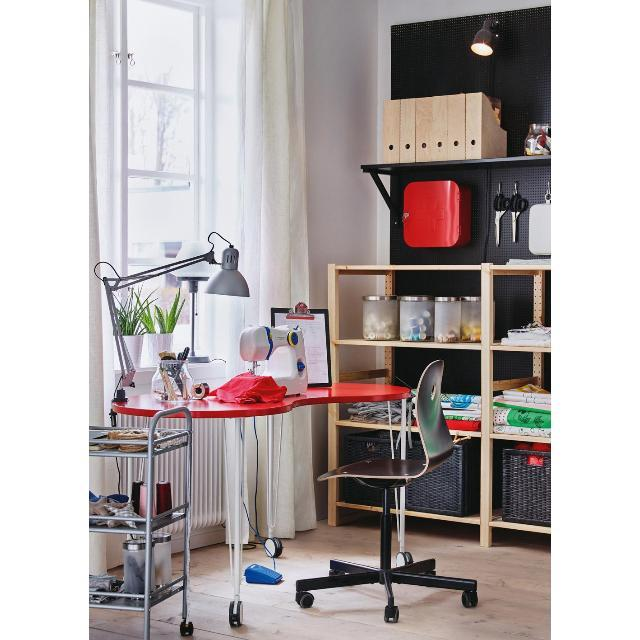chair: (296, 361, 479, 622)
curtain: (226, 0, 309, 378)
lamp: (99, 233, 250, 386), (472, 19, 502, 56)
plant: (143, 289, 185, 364), (116, 289, 150, 369)
table: (321, 263, 552, 542), (188, 382, 410, 601), (114, 394, 168, 417)
